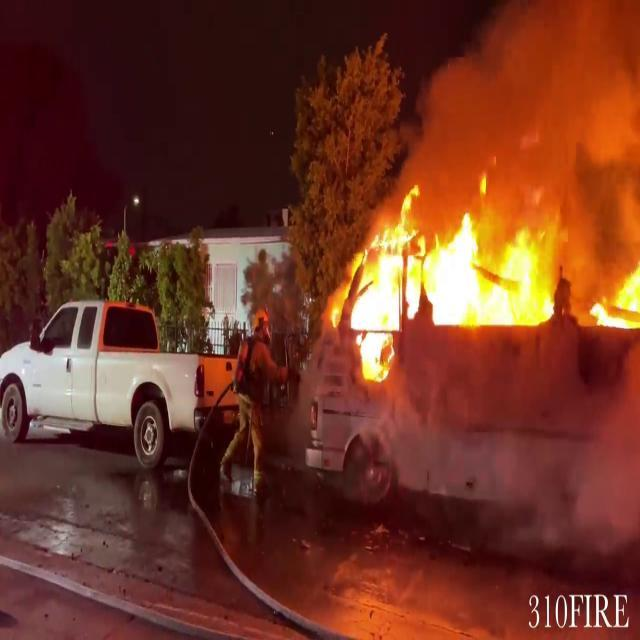Fire: (333, 174, 640, 381)
Smoke: (414, 0, 640, 215)
